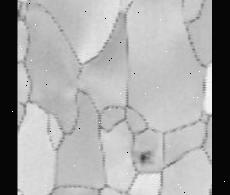good_void: (137, 146, 154, 164)
